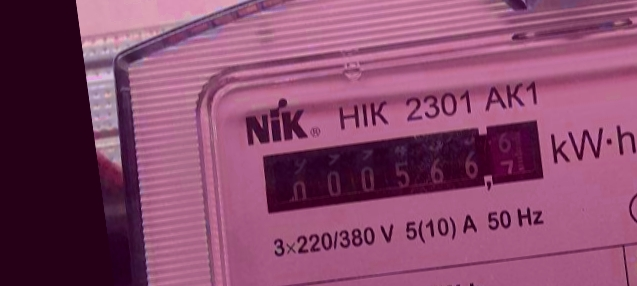0: (357, 162, 379, 194), (324, 166, 344, 197), (289, 176, 310, 201)
5: (392, 158, 414, 189)
6: (460, 147, 483, 180), (425, 154, 447, 185), (496, 129, 515, 156)
7: (499, 157, 517, 177)
9: (290, 153, 310, 176)
screen: (251, 110, 552, 224)
